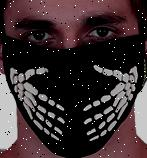with_mask: (2, 1, 147, 158)
